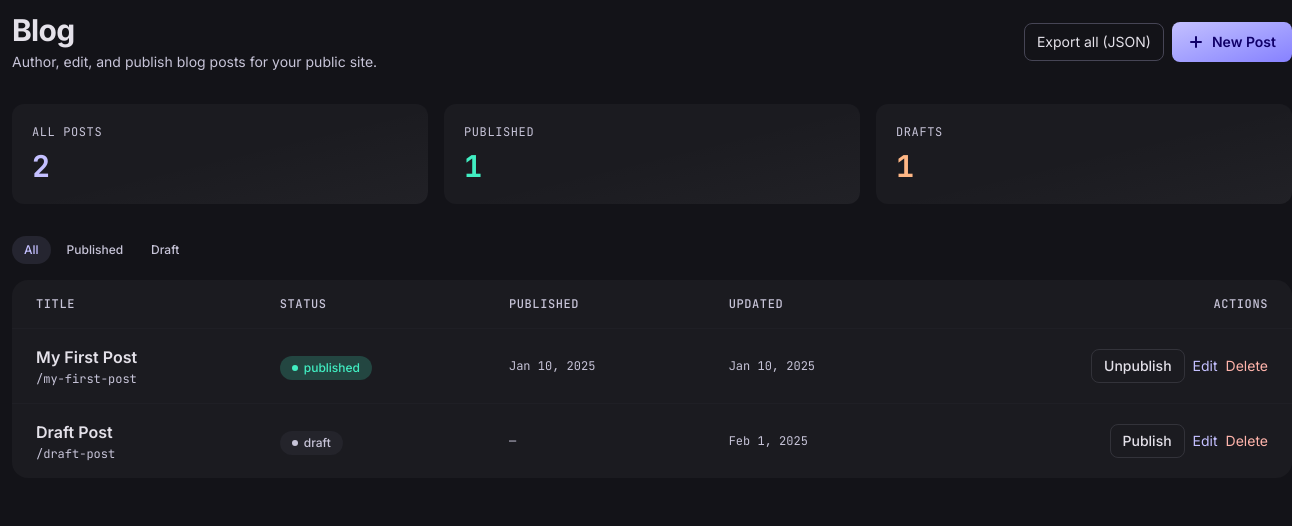
Test case: BlogAdminPage › shows delete error message on failure
The width and height of the screenshot is (1292, 526).
Click the button "Delete" in the row of "My First Post" at (1247, 366), box [1226,356,1268,376]
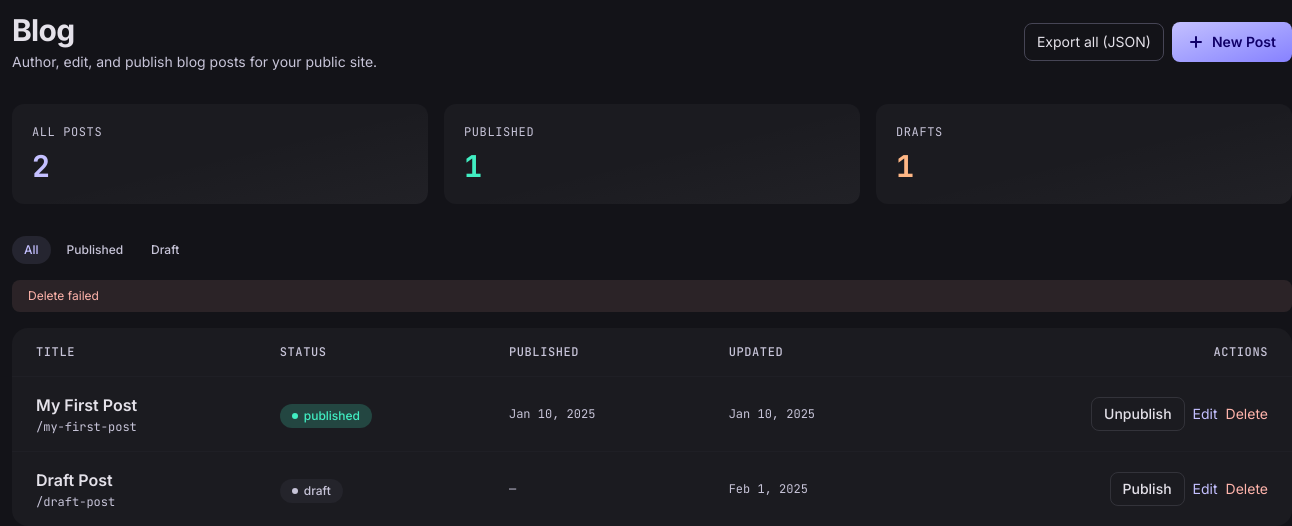
Expected: the text "Delete failed" is shown, [12,280,1291,312]
